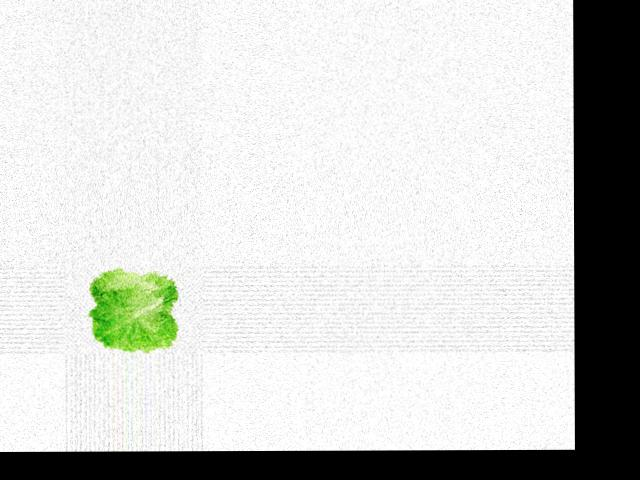lettuce: (82, 265, 184, 354)
